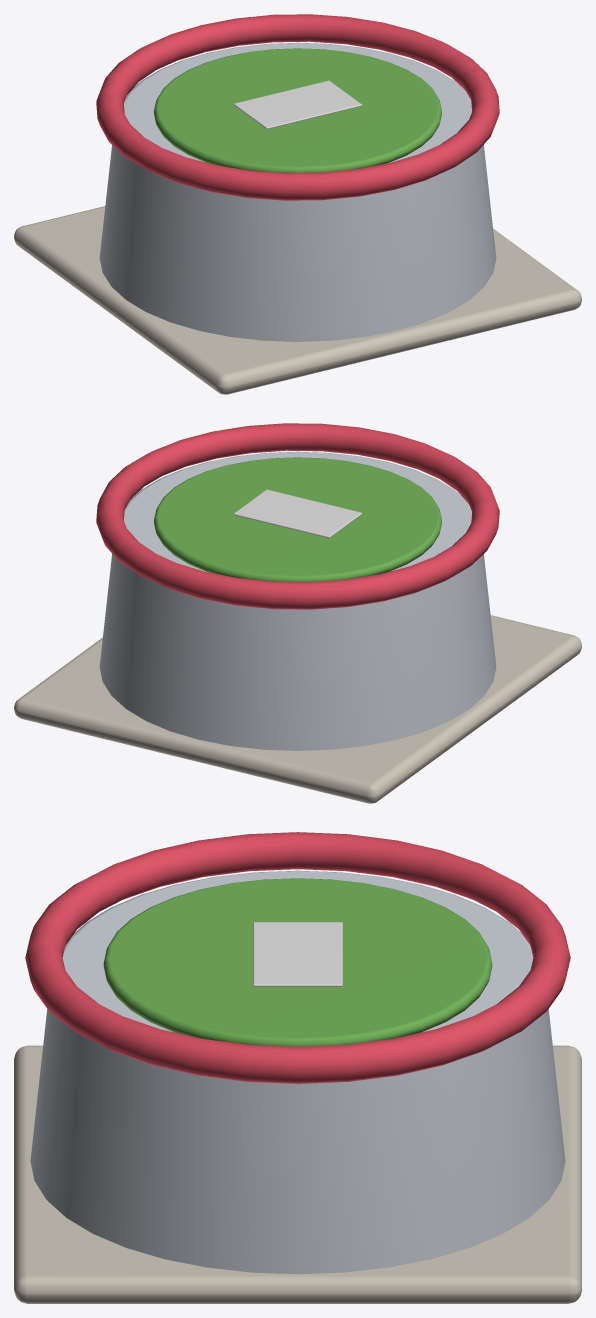
3 renders of one model, top to bottom at view 1: azimuth 30°, elevation 25°; view 2: azimuth 150°, elevation 25°; view 3: azimuth 270°, elevation 25°, orthographic. The views are drawn at different scales.
Visible parts, largest first — view 1: Cube; view 2: Cube; view 3: Cube.
Part boxes in pixels (left/top/right/bottom): Cube: left=14, top=14, right=581, bottom=394; Cube: left=14, top=423, right=581, bottom=803; Cube: left=14, top=832, right=581, bottom=1303.
Size of the model in its own units: 0.76 by 0.3638 by 0.76.
